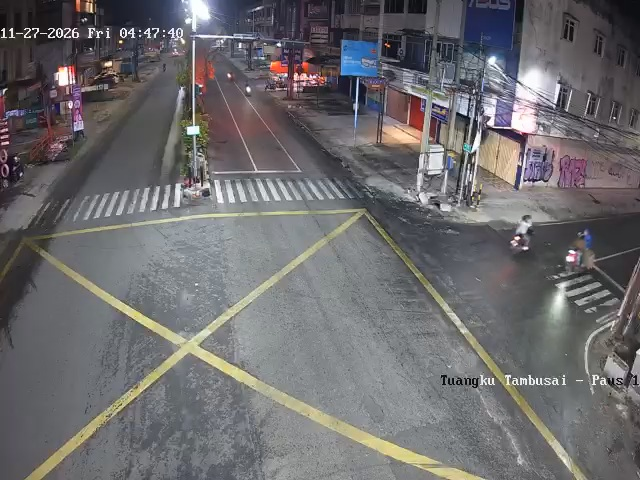Gerobak: (267, 59, 323, 94)
